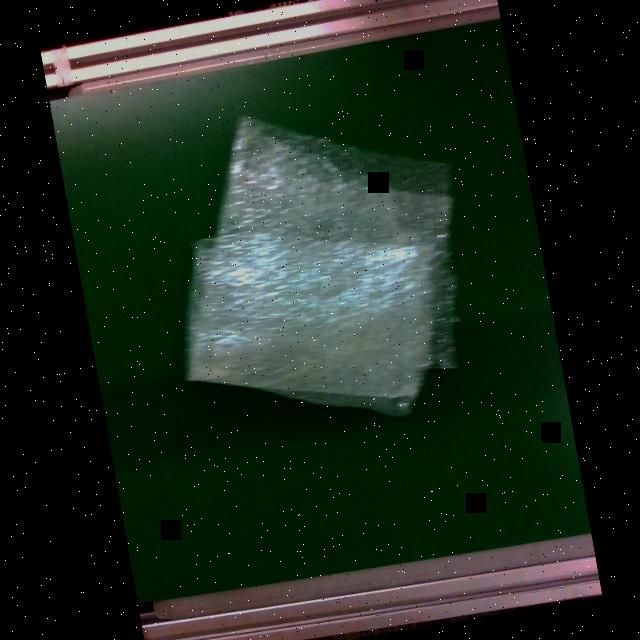scrap_plastic: (137, 78, 494, 454)
